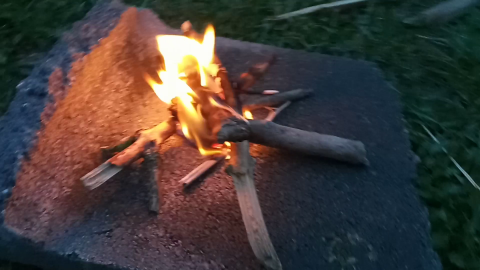fire: (141, 18, 247, 162)
